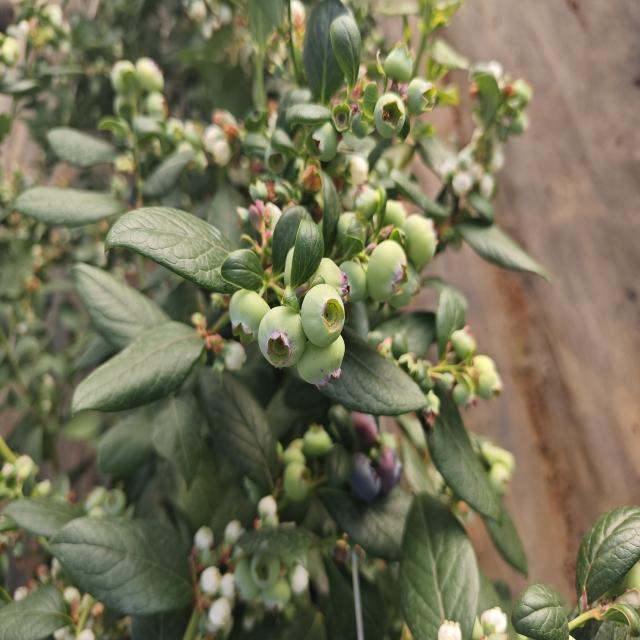ripe: (346, 440, 381, 504), (376, 443, 409, 497)
